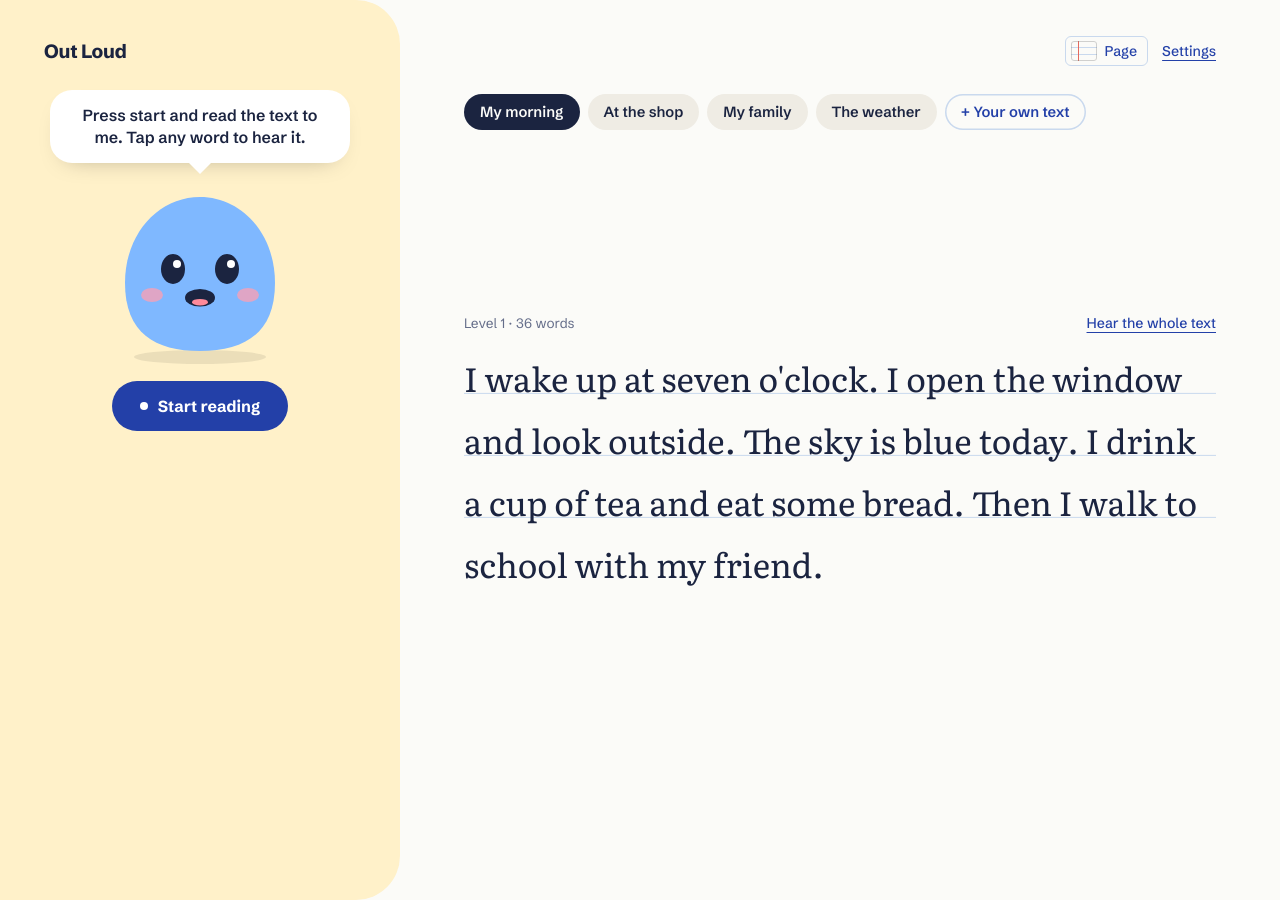
Test: reading a text › marks the words, scores the reading and lists the words to practise
The image size is (1280, 900).
Click the button "Start reading" at (200, 406), box [112, 381, 288, 431]
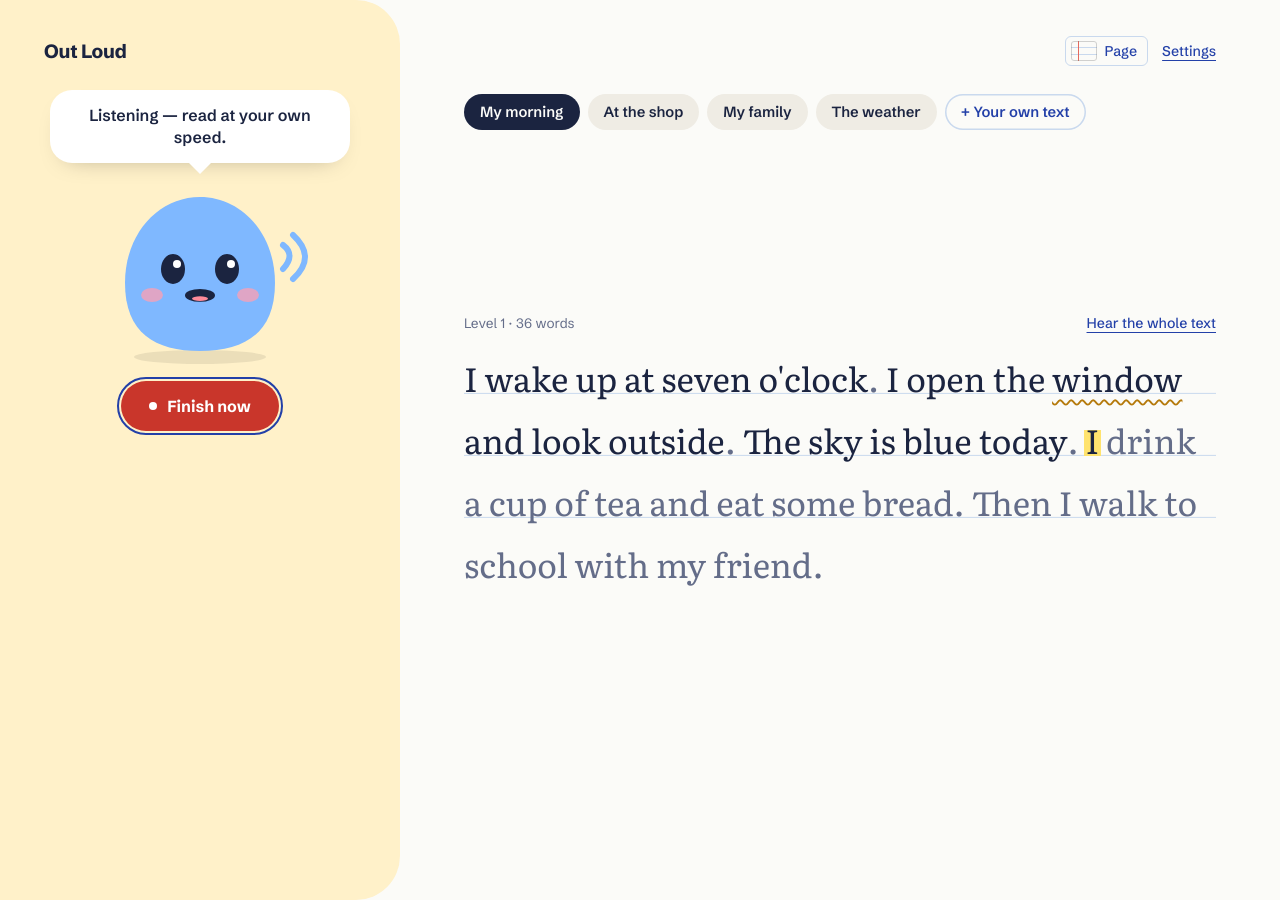
Click the button "Finish now" at (200, 406), box [121, 381, 279, 431]
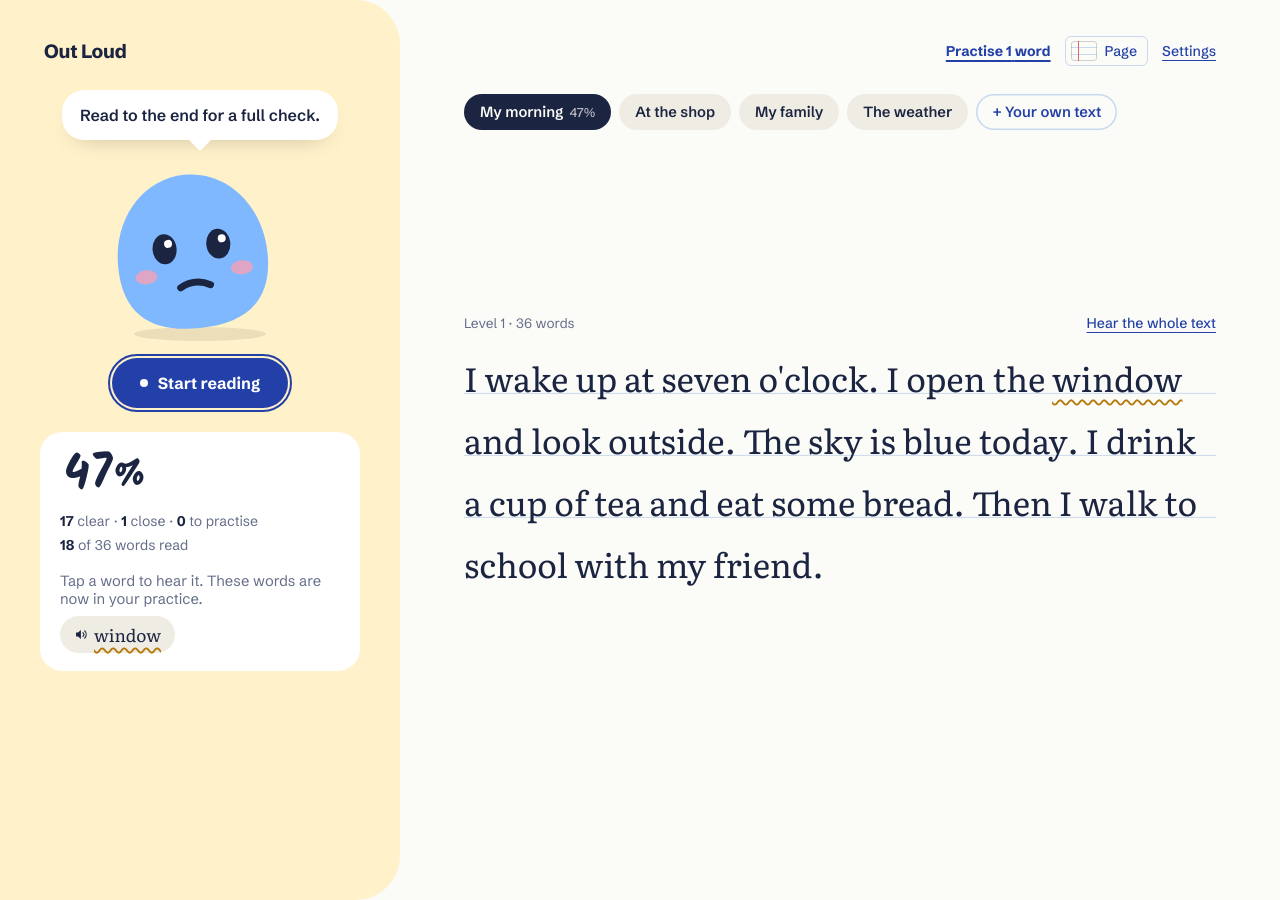
Check: the button with aria-label "Hear “window”" is shown, box [60, 616, 175, 653]
Check: the text "Read to the end for a full check." is shown, box [62, 90, 338, 140]
